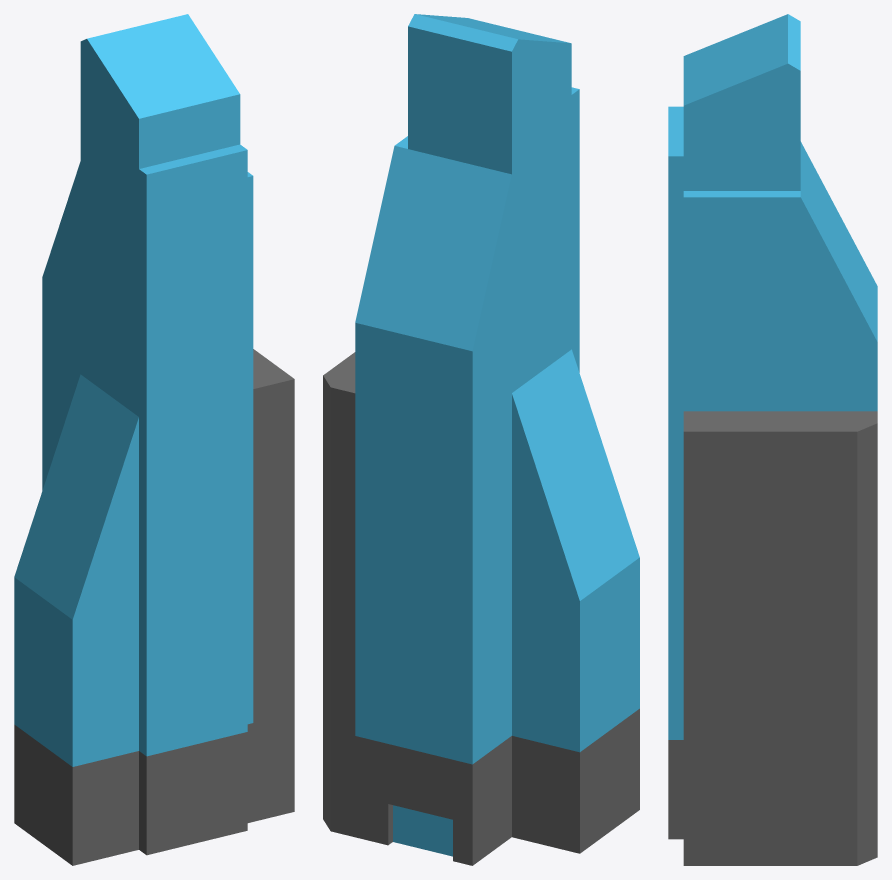
The model's file is Skyscraper_07.fbx.
3 views of the same model, side by side, from view 1: azimuth 30°, elevation 25°; view 2: azimuth 150°, elevation 25°; view 3: azimuth 270°, elevation 25° (orthographic). The views are drawn at different scales.
Visible parts, largest first — view 1: Skyscraper_07; view 2: Skyscraper_07; view 3: Skyscraper_07.
Boxes of the visible parts, x1,y1,x2,y2 form: Skyscraper_07: (14, 14, 294, 865); Skyscraper_07: (323, 14, 639, 865); Skyscraper_07: (668, 14, 877, 865).
Bounding box in the file's own units: 41.49 × 138 × 33.77.
